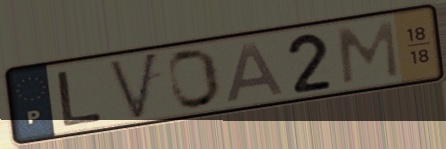2: (281, 28, 340, 99)
A: (223, 38, 289, 105)
L: (55, 67, 106, 129)
M: (334, 17, 402, 87)
O: (165, 46, 225, 112)
V: (105, 48, 161, 124)
